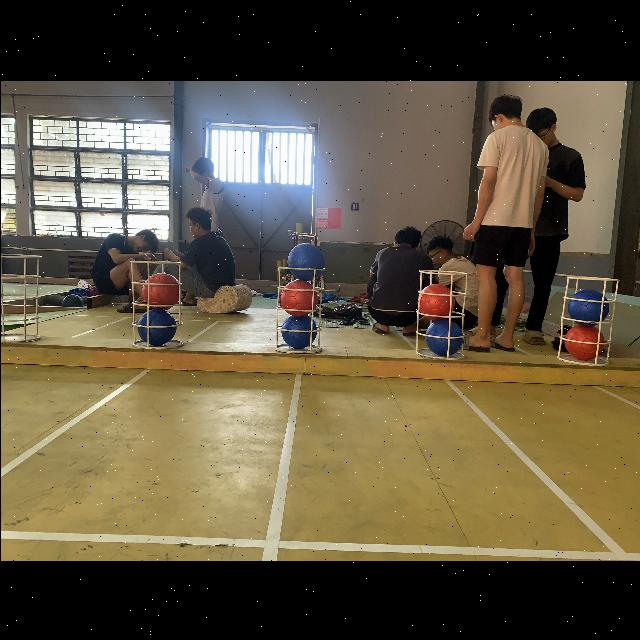B: (136, 306, 176, 346), (566, 288, 608, 326), (284, 242, 324, 280), (425, 320, 461, 356), (282, 314, 316, 348)
R: (564, 324, 604, 360), (418, 284, 456, 320), (142, 272, 178, 308), (279, 279, 317, 313)
